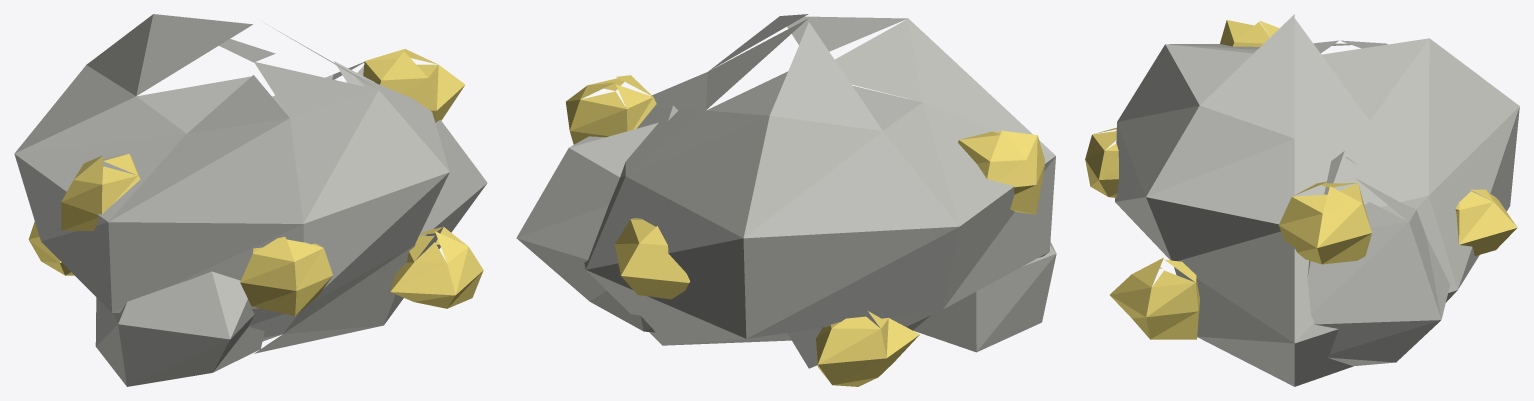
Rendered from wipe-day-survival-island-sulfur-ore-node-small-5f9c5cb5__27425.glb.
The picture shows the model from 3 angles, left to right: view 1: azimuth 30°, elevation 25°; view 2: azimuth 150°, elevation 25°; view 3: azimuth 270°, elevation 25°; orthographic projection. The views are drawn at different scales.
Visible parts, largest first — view 1: sulfur-ore-node-small; view 2: sulfur-ore-node-small; view 3: sulfur-ore-node-small.
Part boxes in pixels (left/top/right/bottom): sulfur-ore-node-small: left=14, top=14, right=487, bottom=386; sulfur-ore-node-small: left=516, top=14, right=1056, bottom=386; sulfur-ore-node-small: left=1085, top=14, right=1519, bottom=386.
Size of the model in its own units: 0.9512 by 0.7079 by 0.8329.
